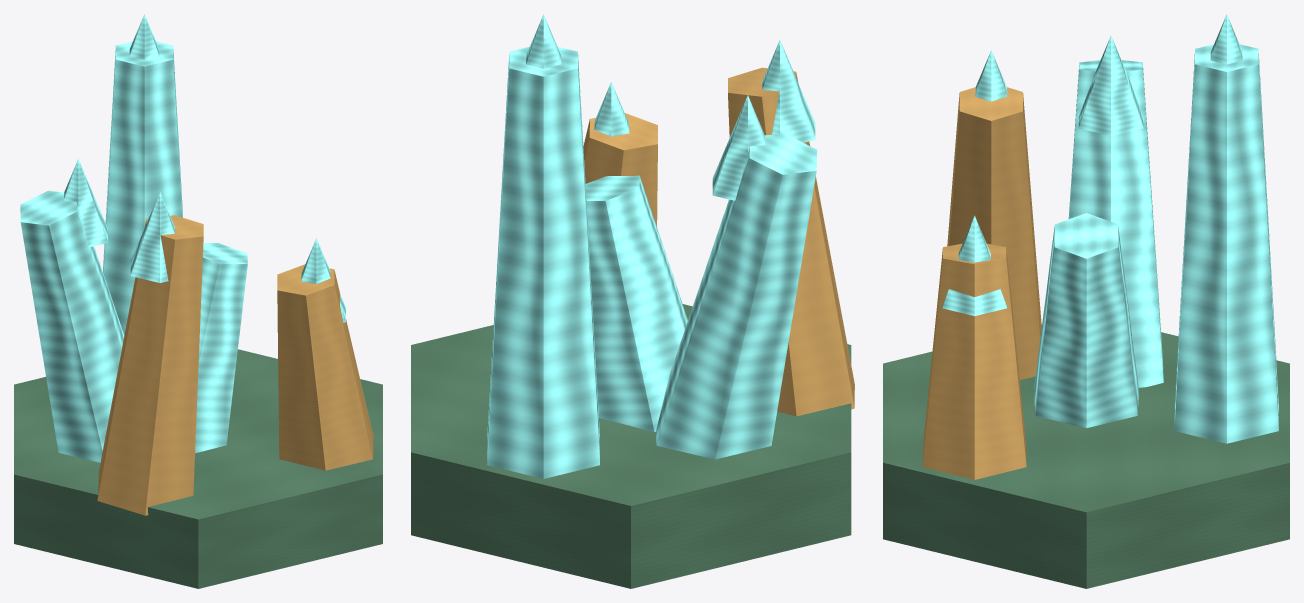
The model's file is atlas100-s002-a04.lod1.glb.
The picture shows the model from 3 angles, left to right: view 1: azimuth 30°, elevation 25°; view 2: azimuth 150°, elevation 25°; view 3: azimuth 270°, elevation 25°; orthographic projection. The views are drawn at different scales.
Visible parts, largest first — view 1: atlas100-s002-a04:part-000, atlas100-s002-a04:part-003, atlas100-s002-a04:part-009, atlas100-s002-a04:part-007, atlas100-s002-a04:part-005, atlas100-s002-a04:part-001, atlas100-s002-a04:part-004, atlas100-s002-a04:part-010, atlas100-s002-a04:part-008, atlas100-s002-a04:part-006; view 2: atlas100-s002-a04:part-000, atlas100-s002-a04:part-005, atlas100-s002-a04:part-009, atlas100-s002-a04:part-001, atlas100-s002-a04:part-003, atlas100-s002-a04:part-007, atlas100-s002-a04:part-004, atlas100-s002-a04:part-010, atlas100-s002-a04:part-008, atlas100-s002-a04:part-006; view 3: atlas100-s002-a04:part-000, atlas100-s002-a04:part-005, atlas100-s002-a04:part-007, atlas100-s002-a04:part-001, atlas100-s002-a04:part-003, atlas100-s002-a04:part-009, atlas100-s002-a04:part-010, atlas100-s002-a04:part-008, atlas100-s002-a04:part-004, atlas100-s002-a04:part-006.
Part boxes in pixels (x1,y1,x2,y2): atlas100-s002-a04:part-000: [14, 349, 382, 588]; atlas100-s002-a04:part-003: [97, 215, 203, 515]; atlas100-s002-a04:part-009: [20, 190, 124, 462]; atlas100-s002-a04:part-007: [277, 264, 373, 470]; atlas100-s002-a04:part-005: [103, 41, 182, 334]; atlas100-s002-a04:part-001: [195, 243, 247, 453]; atlas100-s002-a04:part-004: [130, 192, 174, 282]; atlas100-s002-a04:part-010: [63, 159, 107, 247]; atlas100-s002-a04:part-008: [301, 238, 345, 322]; atlas100-s002-a04:part-006: [129, 14, 159, 59]; atlas100-s002-a04:part-000: [411, 304, 851, 588]; atlas100-s002-a04:part-005: [487, 47, 599, 478]; atlas100-s002-a04:part-009: [656, 133, 817, 459]; atlas100-s002-a04:part-001: [585, 175, 687, 431]; atlas100-s002-a04:part-003: [728, 67, 854, 416]; atlas100-s002-a04:part-007: [583, 113, 657, 226]; atlas100-s002-a04:part-004: [762, 40, 815, 142]; atlas100-s002-a04:part-010: [712, 95, 765, 200]; atlas100-s002-a04:part-008: [594, 82, 629, 136]; atlas100-s002-a04:part-006: [526, 14, 561, 68]; atlas100-s002-a04:part-000: [883, 325, 1289, 588]; atlas100-s002-a04:part-005: [1174, 44, 1278, 443]; atlas100-s002-a04:part-007: [922, 243, 1026, 479]; atlas100-s002-a04:part-001: [1034, 213, 1138, 428]; atlas100-s002-a04:part-003: [947, 87, 1041, 379]; atlas100-s002-a04:part-009: [1068, 60, 1163, 387]; atlas100-s002-a04:part-010: [1078, 36, 1143, 136]; atlas100-s002-a04:part-008: [942, 215, 1007, 316]; atlas100-s002-a04:part-004: [975, 50, 1007, 101]; atlas100-s002-a04:part-006: [1210, 14, 1242, 64].
Size of the model in its own units: 1.07 by 1.21 by 0.9258.
3 materials, 3 textured.
